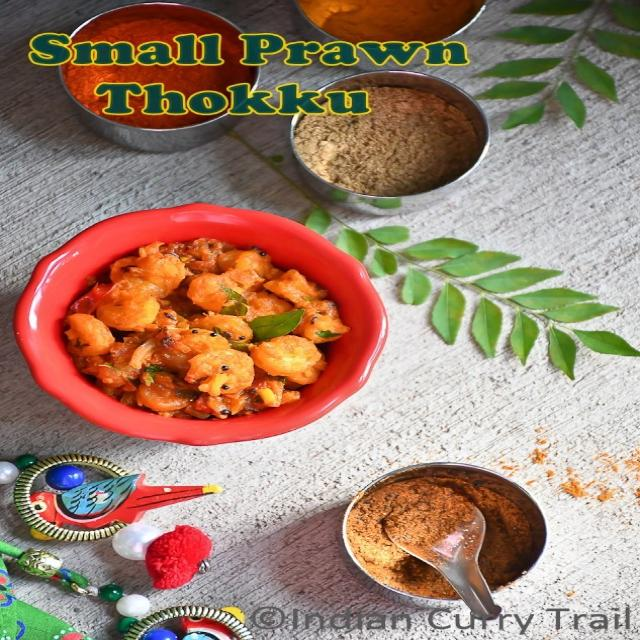prawn thokku: (47, 231, 350, 418)
